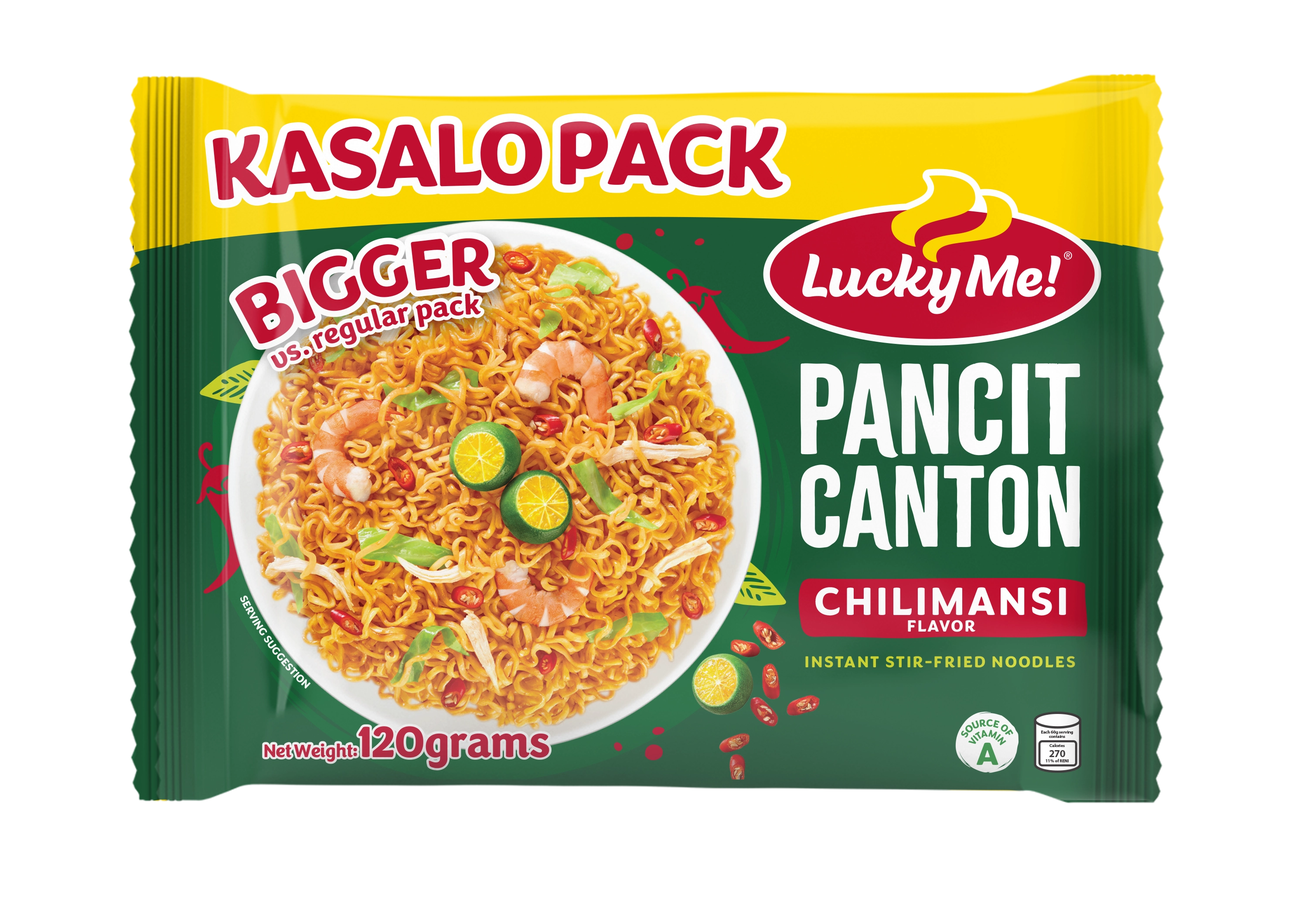non-toxic_waste: (139, 103, 1151, 781)
